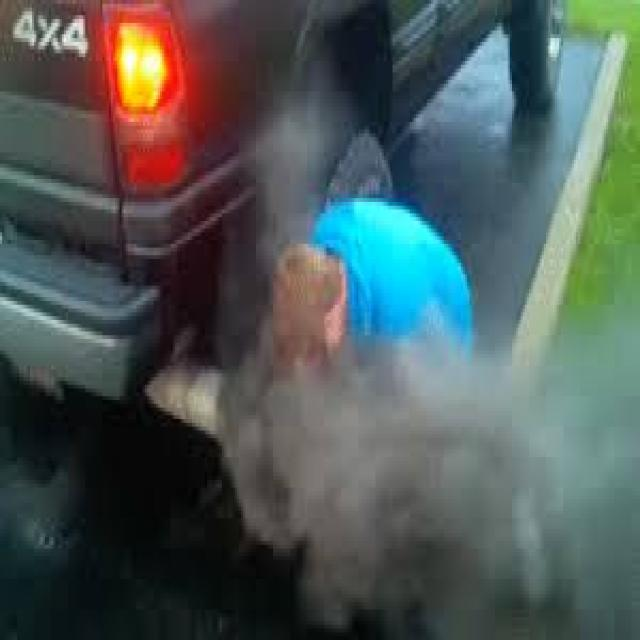Smoke: (203, 324, 638, 640), (232, 52, 356, 230)
